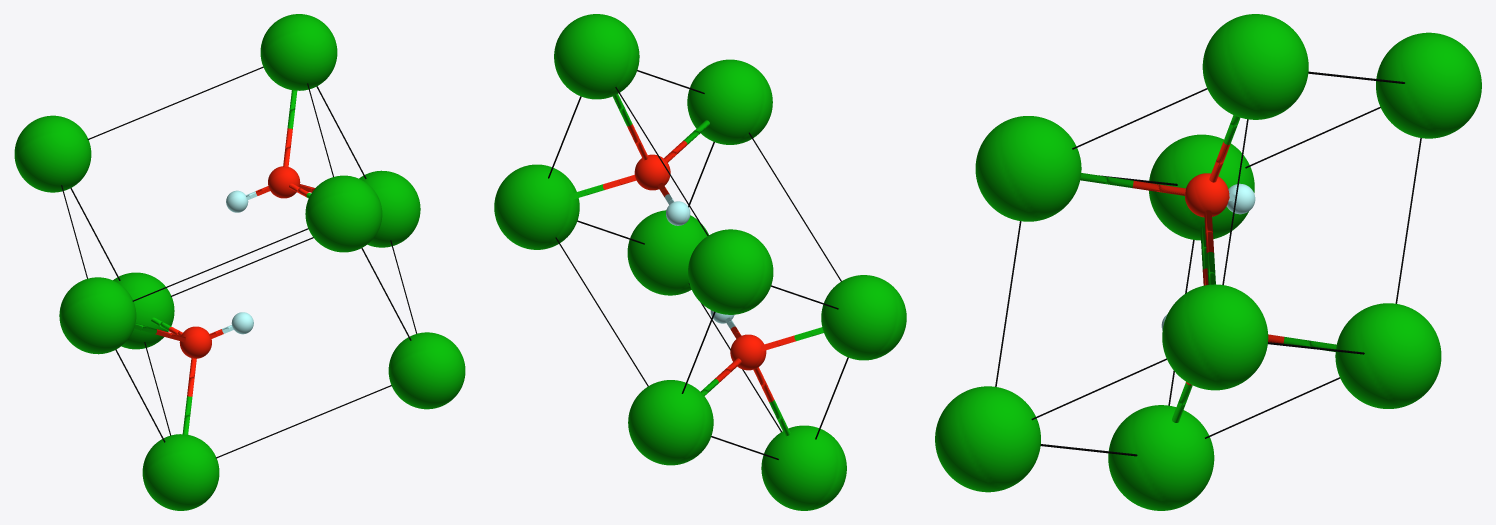
3 views of the same model, side by side, from view 1: azimuth 30°, elevation 25°; view 2: azimuth 150°, elevation 25°; view 3: azimuth 270°, elevation 25° (orthographic). The views are drawn at different scales.
Parts seen in each view (by area): view 1: UnitCellSegment_0; view 2: UnitCellSegment_0; view 3: UnitCellSegment_0.
Boxes of the visible parts, x1,y1,x2,y2 form: UnitCellSegment_0: (14,14,465,510); UnitCellSegment_0: (494,14,906,510); UnitCellSegment_0: (935,14,1481,510).
Bounding box in the file's own units: 0.7435 × 0.8542 × 0.7181.
